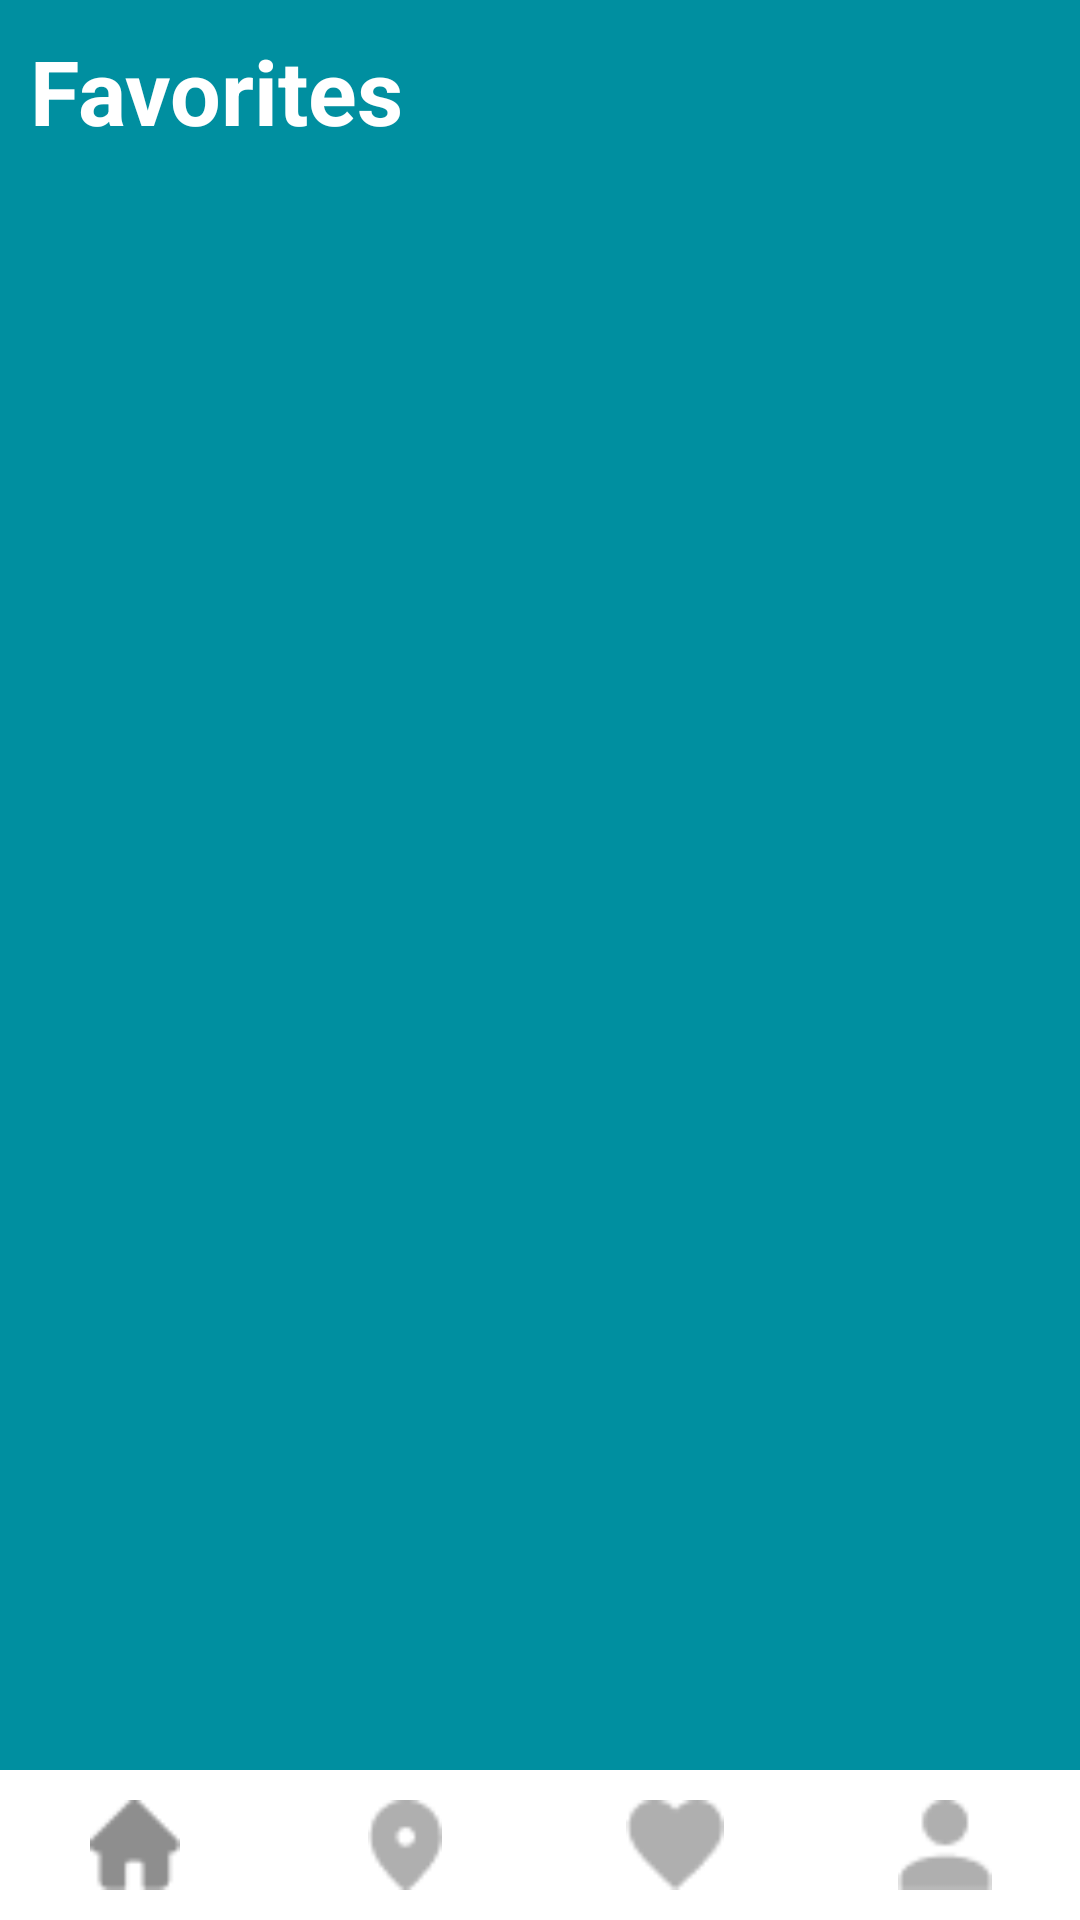

Icon click points for this 1080×1920 phone screenshot, format (x=x, y=y):
homeoff: (x=135, y=1845)
likes: (x=676, y=1845)
map: (x=406, y=1845)
profile: (x=945, y=1845)
